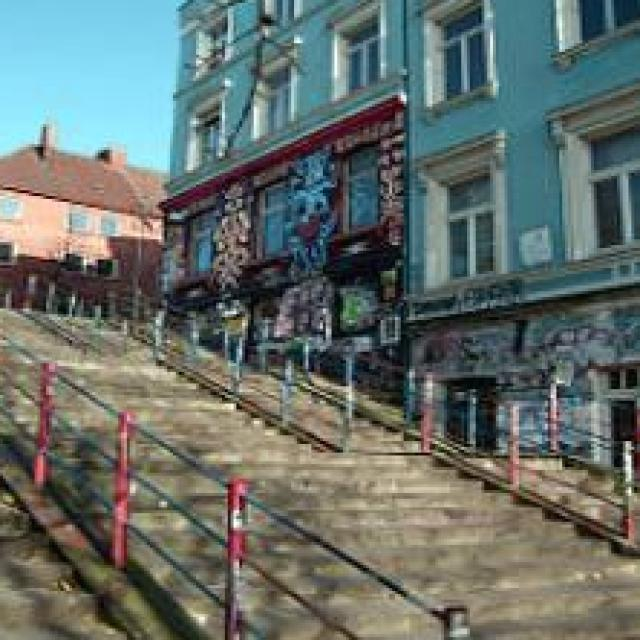upstair: (206, 428, 612, 638)
